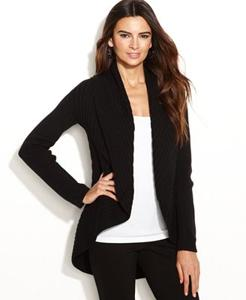S_cardigan sweater: (22, 73, 215, 283)
